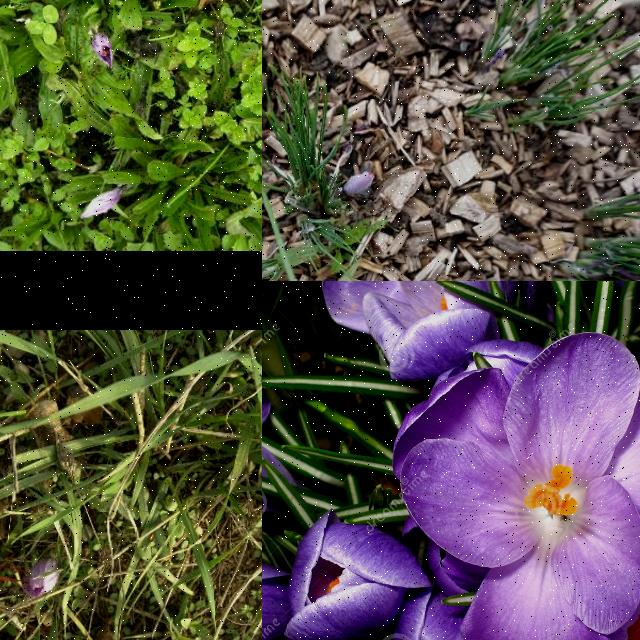flower: (0, 560, 59, 598), (79, 190, 121, 220), (342, 172, 376, 200), (92, 33, 114, 69)
